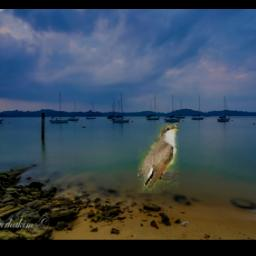Cuckoo: (139, 124, 180, 194)
